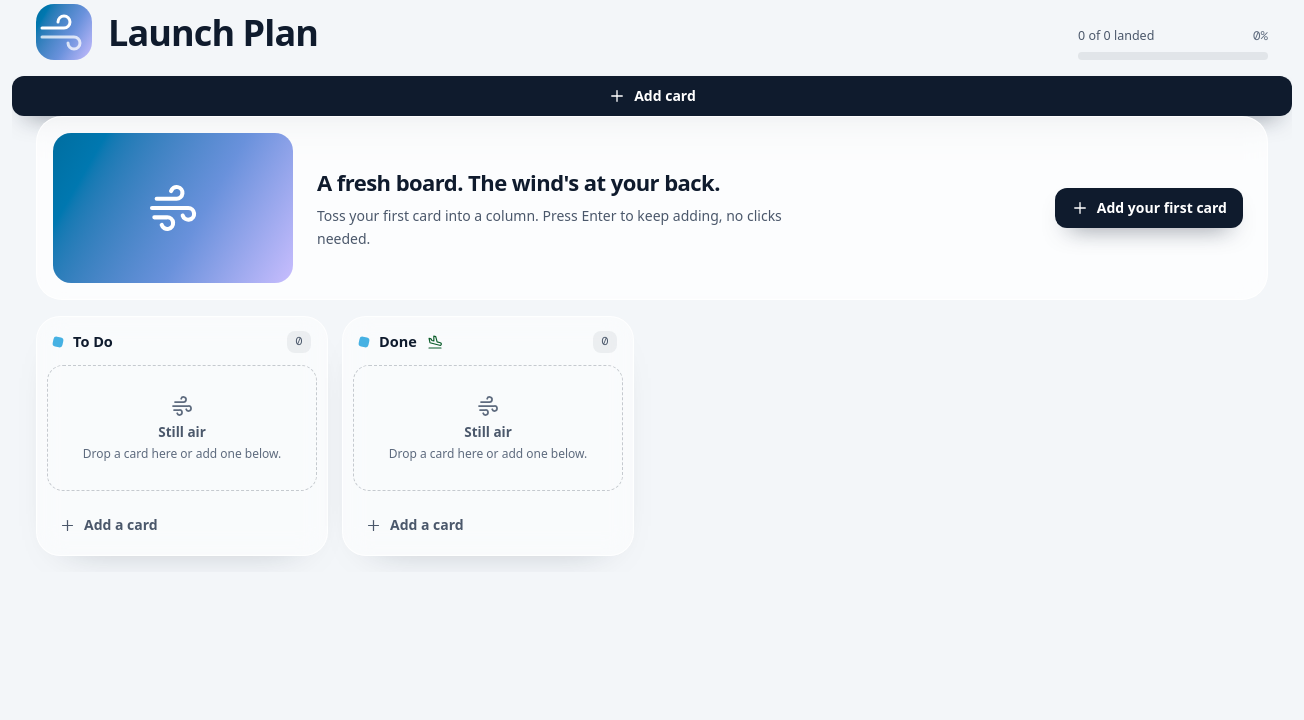
Test: Board page adding and saving a task › from a column composer › keeps what was typed and says so when the server refuses the card
The image size is (1304, 720).
Click the button "Add a card" below "To Do": (121, 525) [47, 505, 317, 545]
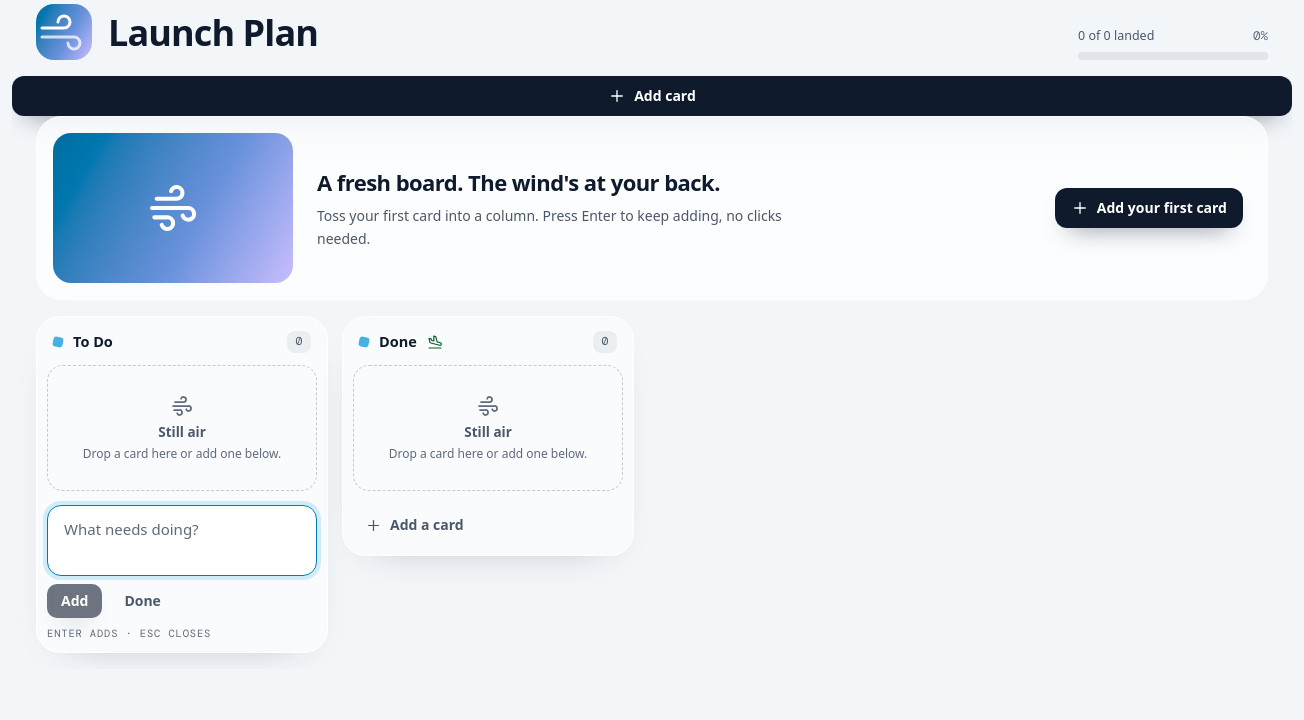
In the text box named "new card in To Do": (182, 541) [47, 505, 317, 576], type "Pack the stove"
Then press Enter
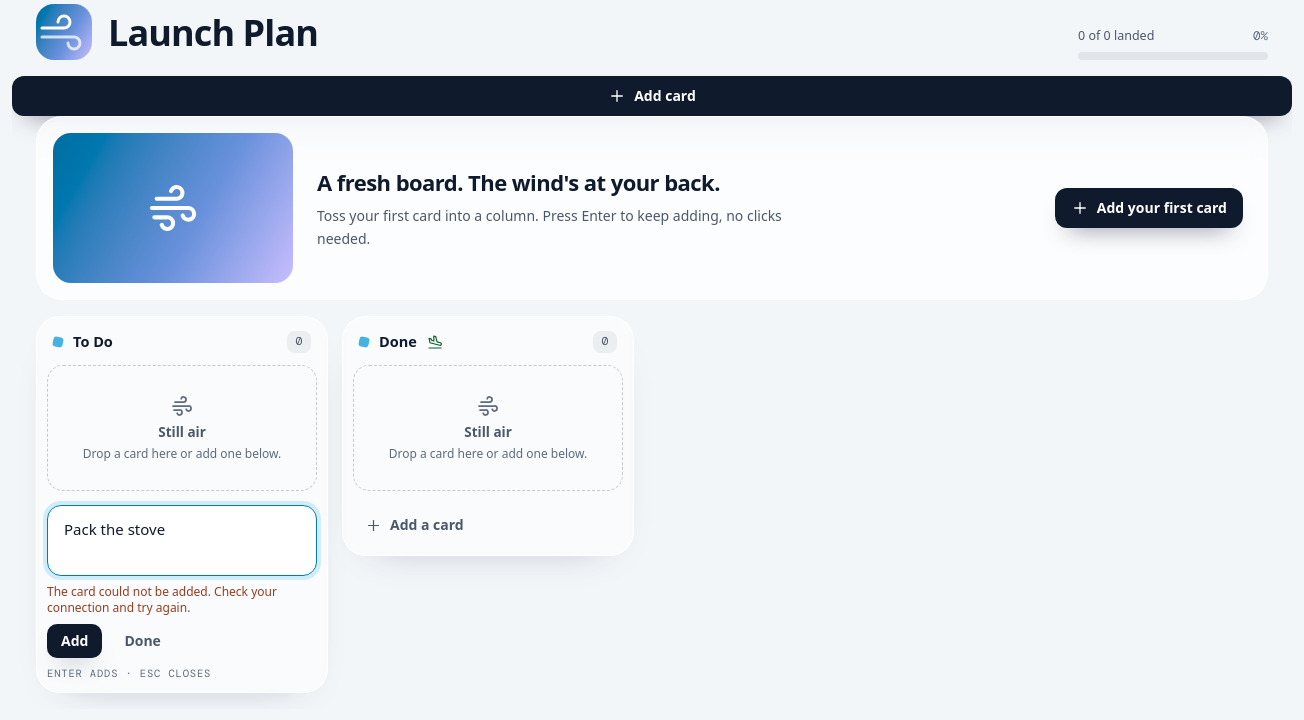
Now the message shows "The card could not be added", box [47, 583, 277, 616]
